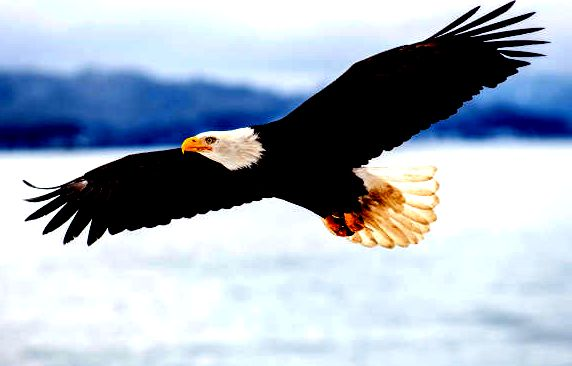Bird: (21, 1, 554, 251)
